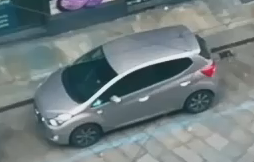Car: (28, 17, 221, 153)
